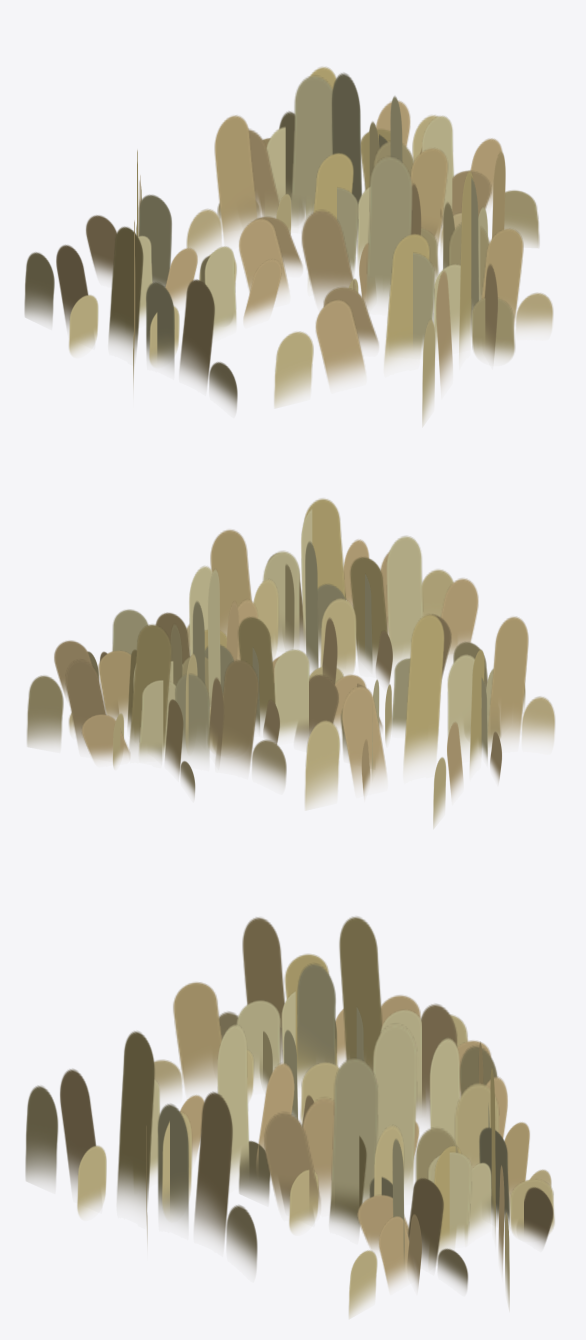
File: P_Grass.glb
3 views of the same model, one above another, from view 1: azimuth 30°, elevation 25°; view 2: azimuth 150°, elevation 25°; view 3: azimuth 270°, elevation 25° (orthographic). The views are drawn at different scales.
Visible parts, largest first — view 1: P_Grass; view 2: P_Grass; view 3: P_Grass.
Boxes of the visible parts, bbox=[...] form: P_Grass: bbox=[24, 67, 553, 425]; P_Grass: bbox=[27, 498, 555, 828]; P_Grass: bbox=[25, 916, 554, 1318].
Bounding box in the file's own units: 1.79 × 0.7488 × 1.63.
1 material, 1 textured.
